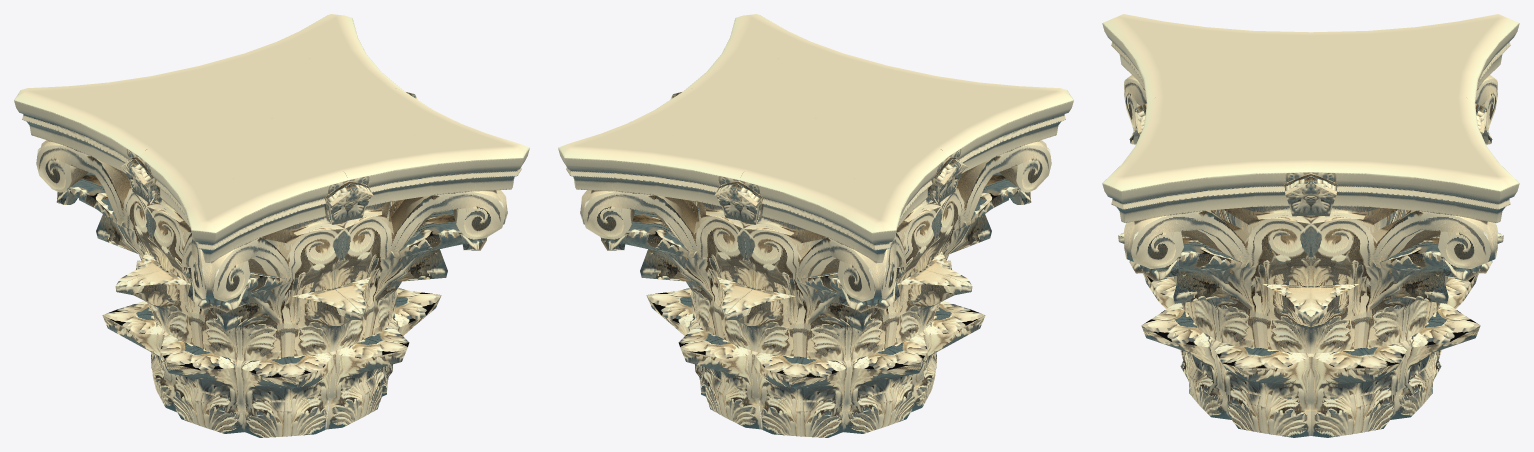
File: corinthian-capital-propylon.glb
3 renders of one model, left to right at view 1: azimuth 30°, elevation 25°; view 2: azimuth 150°, elevation 25°; view 3: azimuth 270°, elevation 25°, orthographic. The views are drawn at different scales.
Parts seen in each view (by area): view 1: Curve.002; view 2: Curve.002; view 3: Curve.002.
Part boxes in pixels (x1,y1,x2,y2): Curve.002: (14, 14, 529, 437); Curve.002: (558, 14, 1073, 437); Curve.002: (1102, 14, 1519, 437).
Bounding box in the file's own units: 1.23 × 0.939 × 1.23.
1 material, 1 textured.
